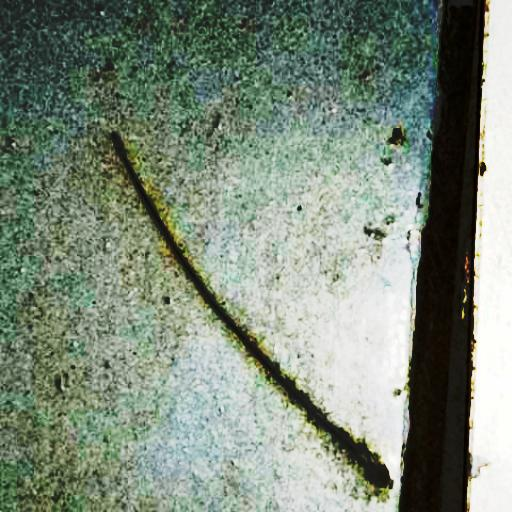crack: (101, 124, 399, 487)
